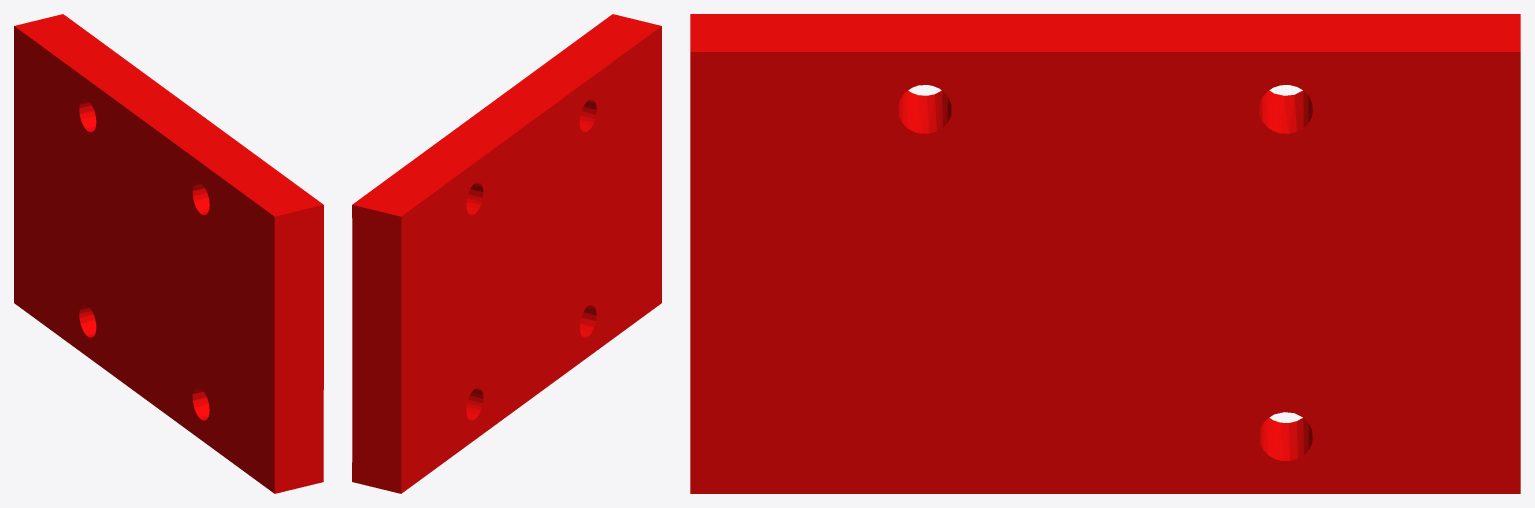
File: right_arm_1_hand_1_slide_1.glb
3 renders of one model, left to right at view 1: azimuth 30°, elevation 25°; view 2: azimuth 150°, elevation 25°; view 3: azimuth 270°, elevation 25°, orthographic. The views are drawn at different scales.
Parts seen in each view (by area): view 1: right_arm_1_hand_1_slide_1.obj; view 2: right_arm_1_hand_1_slide_1.obj; view 3: right_arm_1_hand_1_slide_1.obj.
Boxes of the visible parts, box(x1,y1,x2,y2) form: right_arm_1_hand_1_slide_1.obj: box(14, 14, 323, 493); right_arm_1_hand_1_slide_1.obj: box(352, 14, 661, 493); right_arm_1_hand_1_slide_1.obj: box(690, 14, 1520, 493).
Size of the model in its own units: 0.005 by 0.027 by 0.046.
